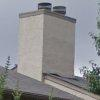Chimney: (15, 2, 79, 82)
